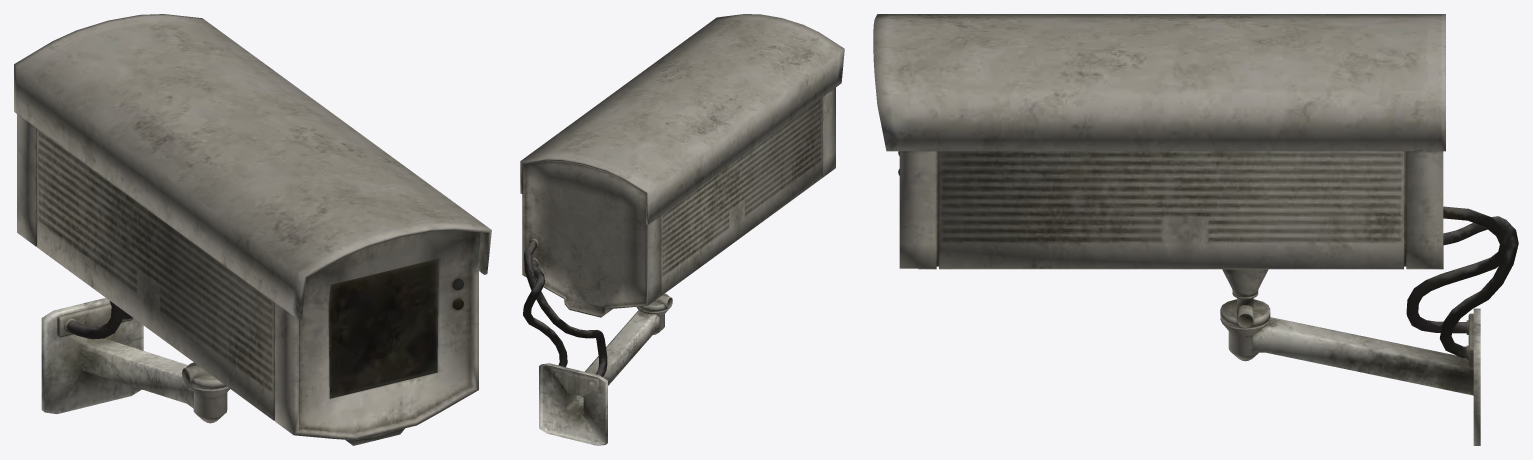
The model's file is cctv.glb.
The picture shows the model from 3 angles, left to right: view 1: azimuth 30°, elevation 25°; view 2: azimuth 150°, elevation 25°; view 3: azimuth 270°, elevation 25°; orthographic projection. The views are drawn at different scales.
Parts seen in each view (by area): view 1: defaultMaterial (×2); view 2: defaultMaterial (×2); view 3: defaultMaterial (×2).
Boxes of the visible parts, left/top/right/bottom form: defaultMaterial (×2): left=14, top=14, right=491, bottom=445; defaultMaterial (×2): left=520, top=14, right=844, bottom=445; defaultMaterial (×2): left=873, top=14, right=1518, bottom=445.
Size of the model in its own units: 0.663 by 1.33 by 2.
Materials: 2 (2 with a texture image).
